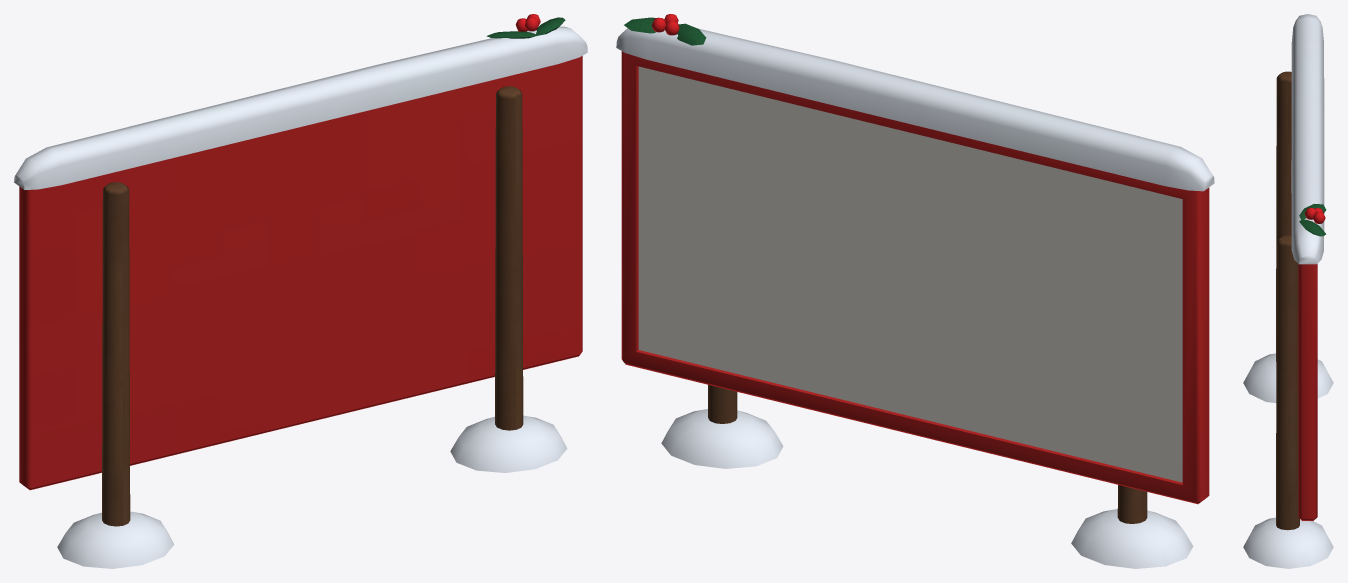
The model's file is SM_Board.glb.
The picture shows the model from 3 angles, left to right: view 1: azimuth 30°, elevation 25°; view 2: azimuth 150°, elevation 25°; view 3: azimuth 270°, elevation 25°; orthographic projection. The views are drawn at different scales.
Visible parts, largest first — view 1: SM_Board; view 2: SignFace, SM_Board; view 3: SM_Board.
Boxes of the visible parts, bbox=[...] form: SM_Board: bbox=[14, 14, 587, 568]; SignFace: bbox=[638, 66, 1182, 482]; SM_Board: bbox=[616, 14, 1214, 568]; SM_Board: bbox=[1243, 14, 1333, 568].
Size of the model in its own units: 3.44 by 2.41 by 0.56.
Materials: 2 (2 with a texture image).
